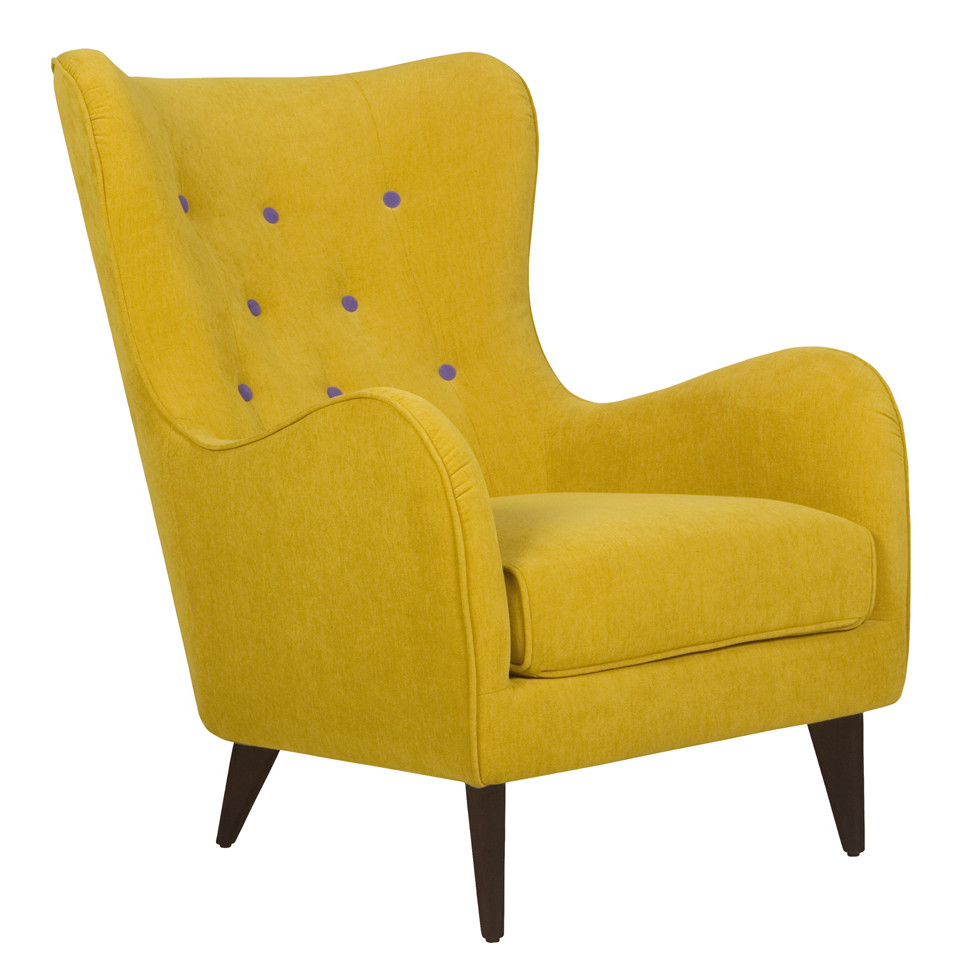chairs: (51, 48, 915, 944)
